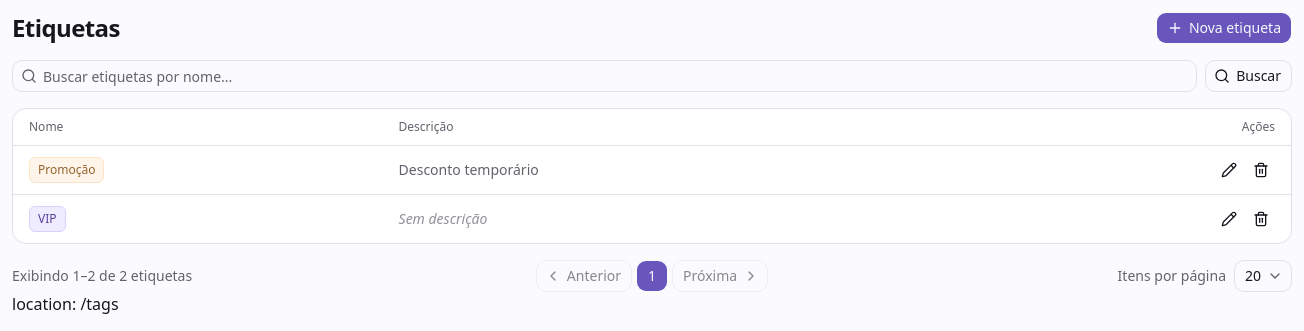
Test: TagListPage › lists every tag again when the search is submitted blank
expect the text "Promoção" is shown: met, box [29, 157, 104, 183]
Type "vip" into the field labelled "Buscar etiquetas por nome".
click(617, 76); type("vip")  # box [37, 60, 1196, 92]
Then press Enter
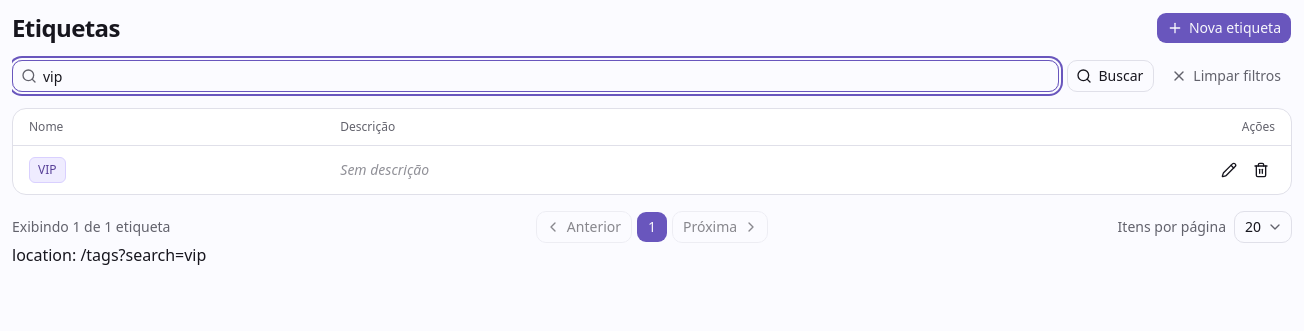
expect the text "Promoção" is gone: met
Clear the field named "Buscar etiquetas por nome" at (548, 76), box [37, 60, 1058, 92]
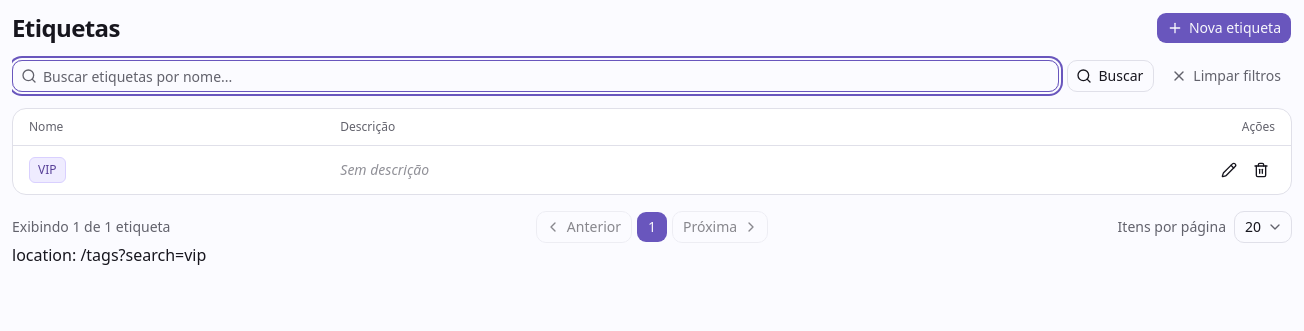
Press Enter
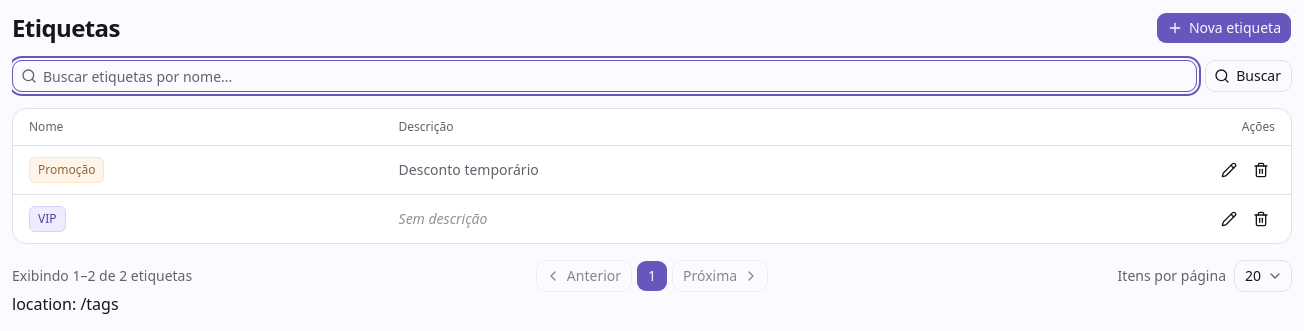
expect the text "Promoção" is shown: met, box [29, 157, 104, 183]
